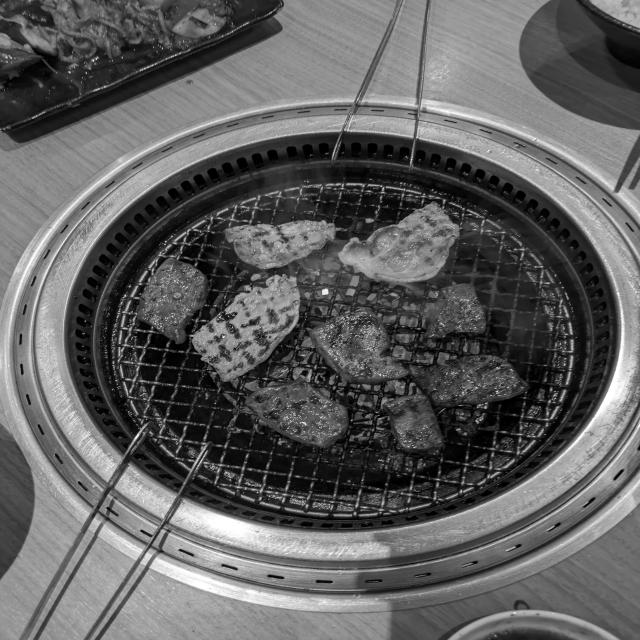OK cooked beef,: (182, 273, 318, 397), (332, 196, 480, 286), (405, 349, 539, 421), (306, 305, 416, 386), (238, 376, 351, 452), (221, 206, 338, 271), (376, 388, 459, 464), (422, 281, 491, 347)
OK undercooked beef,: (126, 254, 217, 348)
